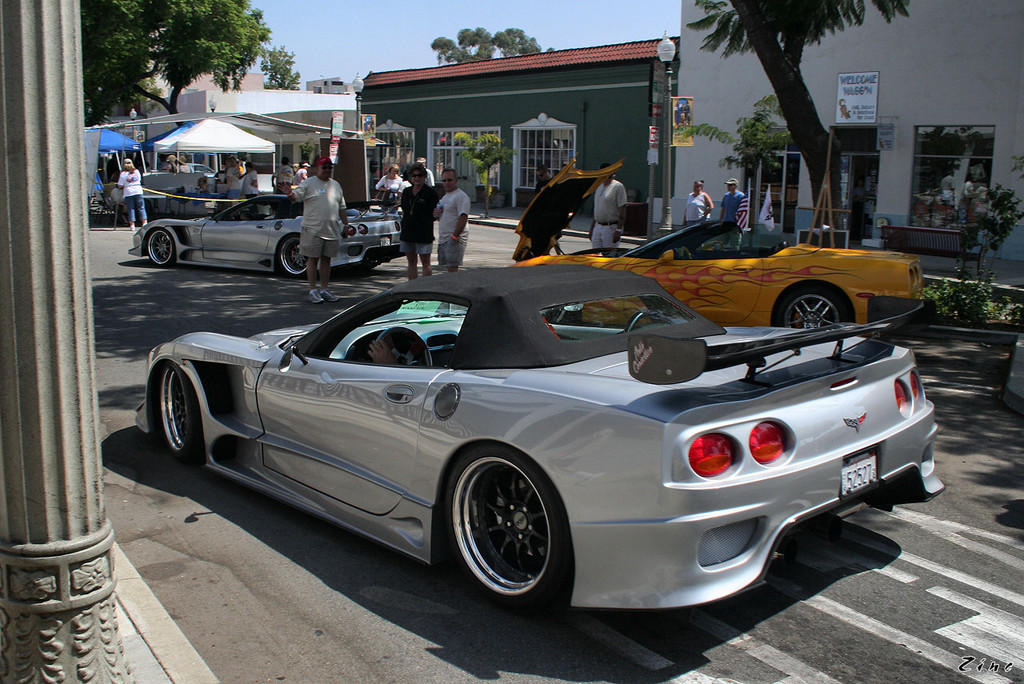Car: (134, 268, 943, 615), (509, 154, 919, 322), (125, 191, 401, 281)
